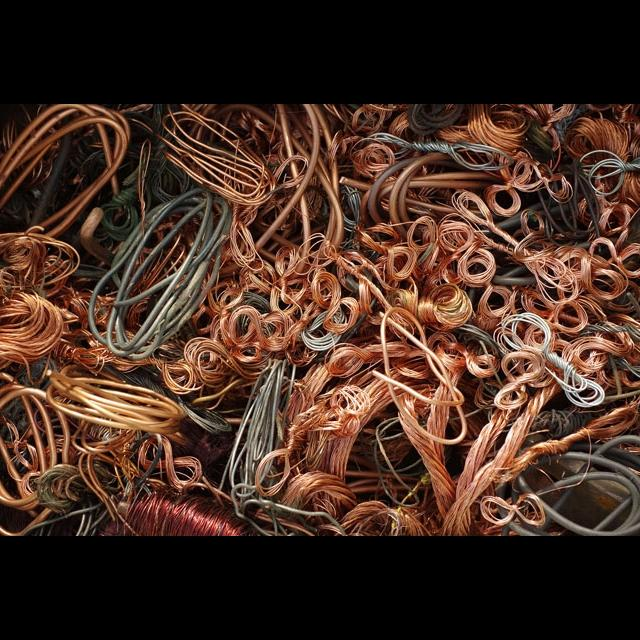metal: (74, 177, 250, 364), (208, 348, 308, 512), (142, 104, 292, 213), (81, 125, 210, 246), (32, 356, 199, 449), (0, 219, 86, 363), (0, 364, 85, 509), (371, 120, 523, 181), (108, 474, 259, 535), (551, 226, 640, 313), (469, 152, 580, 214), (152, 333, 244, 395), (316, 332, 428, 380), (347, 221, 431, 285), (482, 338, 549, 417), (467, 478, 557, 535), (220, 300, 305, 355), (573, 137, 640, 203), (398, 199, 478, 254), (414, 276, 474, 330), (445, 239, 503, 283)
